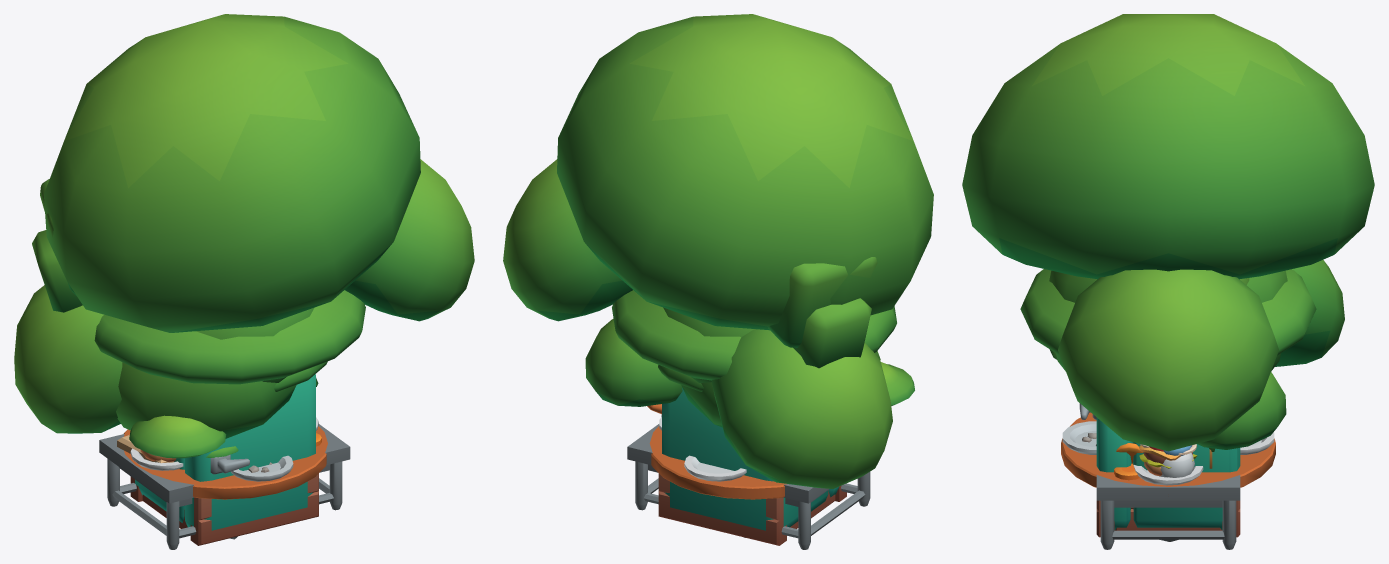
Rendered from kaykit-extra.glb.
3 views of the same model, side by side, from view 1: azimuth 30°, elevation 25°; view 2: azimuth 150°, elevation 25°; view 3: azimuth 270°, elevation 25° (orthographic). The views are drawn at different scales.
Parts seen in each view (by area): view 1: Tree_1_C_Color1, Tree_3_B_Color1, fridge_B_door, Tree_1_A_Color1, kitchentable_A_large_decorated, table_round_A_decorated, Tree_2_C_Color1, crate_carrots, Tree_1_B_Color1, crate_potatoes, crate_lettuce, Tree_3_A_Color1; view 2: Tree_1_C_Color1, Tree_3_B_Color1, Tree_2_C_Color1, Cube.006, Tree_1_B_Color1, kitchentable_A_large_decorated, table_round_A_decorated, crate_carrots, Tree_1_A_Color1, crate_cheese; view 3: Tree_1_C_Color1, kitchentable_A_large_decorated, table_round_A_decorated, Tree_3_B_Color1, Tree_1_B_Color1, Cube.006, fridge_B_door, crate_onions.
Boxes of the visible parts, x1,y1,x2,y2 form: Tree_1_C_Color1: (14,14,474,433); Tree_3_B_Color1: (94,290,365,458); fridge_B_door: (185,374,315,530); Tree_1_A_Color1: (116,362,296,438); kitchentable_A_large_decorated: (99,424,350,549); table_round_A_decorated: (123,417,327,499); Tree_2_C_Color1: (32,179,82,312); crate_carrots: (130,474,318,538); Tree_1_B_Color1: (196,307,314,382); crate_potatoes: (134,486,318,545); crate_lettuce: (132,475,318,545); Tree_3_A_Color1: (206,361,327,457); Tree_1_C_Color1: (503,14,933,488); Tree_3_B_Color1: (612,290,914,405); Tree_2_C_Color1: (768,257,877,368); Cube.006: (662,388,828,530); Tree_1_B_Color1: (585,307,753,414); kitchentable_A_large_decorated: (627,414,870,549); table_round_A_decorated: (649,417,786,499); crate_carrots: (658,473,846,545); Tree_1_A_Color1: (681,351,880,427); crate_cheese: (658,474,845,544); Tree_1_C_Color1: (962,14,1374,451); kitchentable_A_large_decorated: (1096,443,1240,549); table_round_A_decorated: (1061,412,1275,487); Tree_3_B_Color1: (1020,269,1316,359); Tree_1_B_Color1: (1049,271,1287,449); Cube.006: (1132,442,1240,529); fridge_B_door: (1079,403,1132,529); crate_onions: (1096,507,1240,530).
Size of the model in its own units: 6.69 by 7.89 by 5.75.
Materials: 2 (2 with a texture image).
